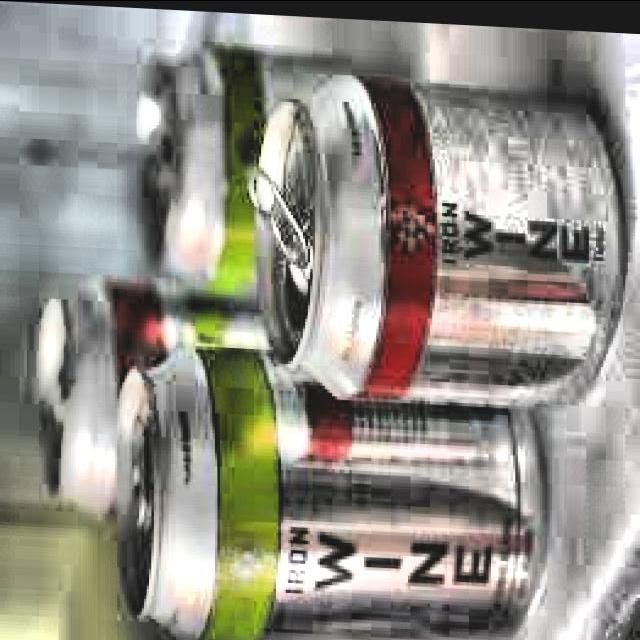Aluminum Can: (244, 50, 636, 426), (106, 325, 556, 640), (127, 33, 406, 294), (32, 266, 288, 530)
